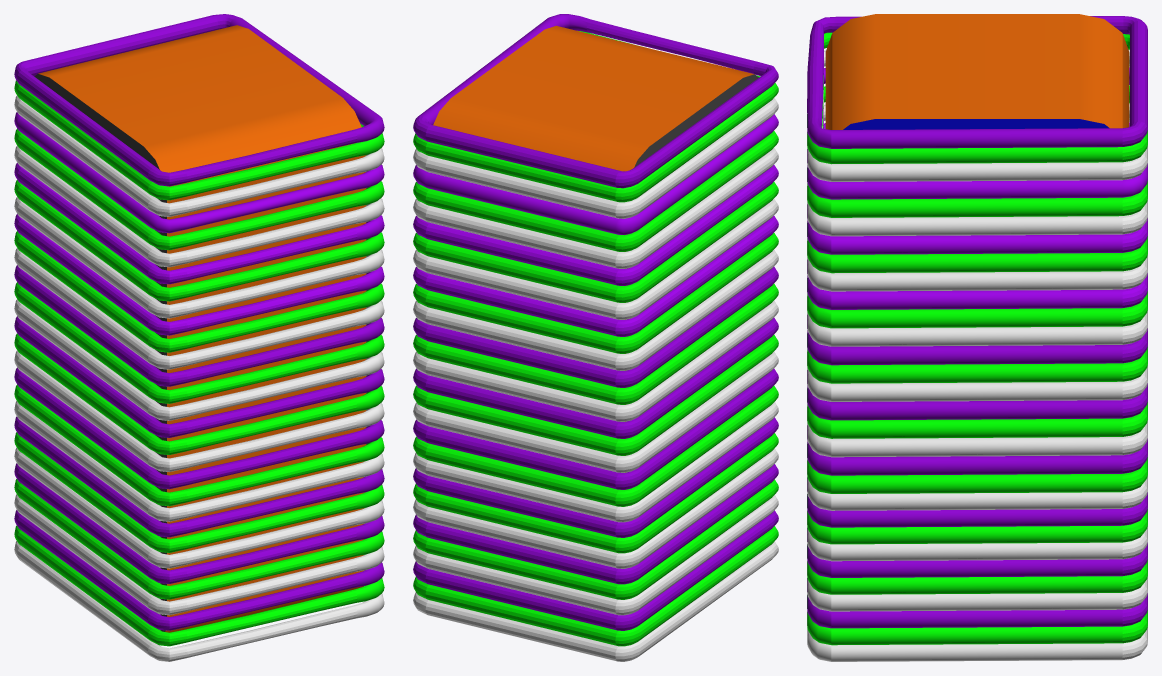
File: speaker.fbx
3 renders of one model, left to right at view 1: azimuth 30°, elevation 25°; view 2: azimuth 150°, elevation 25°; view 3: azimuth 270°, elevation 25°, orthographic. The views are drawn at different scales.
Parts seen in each view (by area): view 1: speakar, pCylinder135, pCylinder116, pCylinder117, pCylinder121, pCylinder109, pCylinder113, pCylinder115, pCylinder120, pCylinder123, pCylinder108, pCylinder110 (+19 smaller); view 2: speakar, pCylinder135, pCylinder120, pCylinder122, pCylinder123, pCylinder121, pCylinder108, pCylinder109, pCylinder110, pCylinder111, pCylinder115, pCylinder116 (+19 smaller); view 3: speakar, pCylinder135, pCylinder108, pCylinder109, pCylinder110, pCylinder112, pCylinder117, pCylinder119, pCylinder122, pCylinder114, pCylinder120, pCylinder115 (+19 smaller).
Boxes of the visible parts, x1,y1,x2,y2 form: speakar: (34,25,366,632); pCylinder135: (14,14,384,186); pCylinder116: (14,265,384,386); pCylinder117: (14,282,384,403); pCylinder121: (14,350,384,471); pCylinder109: (14,145,384,267); pCylinder113: (14,214,384,335); pCylinder115: (14,248,384,369); pCylinder120: (14,333,384,454); pCylinder123: (14,384,384,506); pCylinder108: (14,128,384,250); pCylinder110: (14,163,384,284); speakar: (433,25,758,489); pCylinder135: (413,14,778,188); pCylinder120: (413,334,778,455); pCylinder122: (413,368,778,489); pCylinder123: (413,385,778,506); pCylinder121: (413,351,778,472); pCylinder108: (413,131,778,251); pCylinder109: (413,148,778,268); pCylinder110: (413,165,778,285); pCylinder111: (413,182,778,302); pCylinder115: (413,250,778,370); pCylinder116: (413,266,778,387); speakar: (825,14,1129,129); pCylinder135: (807,16,1147,148); pCylinder108: (807,85,1147,217); pCylinder109: (807,104,1147,236); pCylinder110: (807,122,1147,254); pCylinder112: (807,241,1147,291); pCylinder117: (807,333,1147,383); pCylinder119: (807,370,1147,420); pCylinder122: (807,425,1147,475); pCylinder114: (807,278,1147,328); pCylinder120: (807,388,1147,438); pCylinder115: (807,296,1147,346).
Size of the model in its own units: 2.4 by 4.91 by 2.83.
